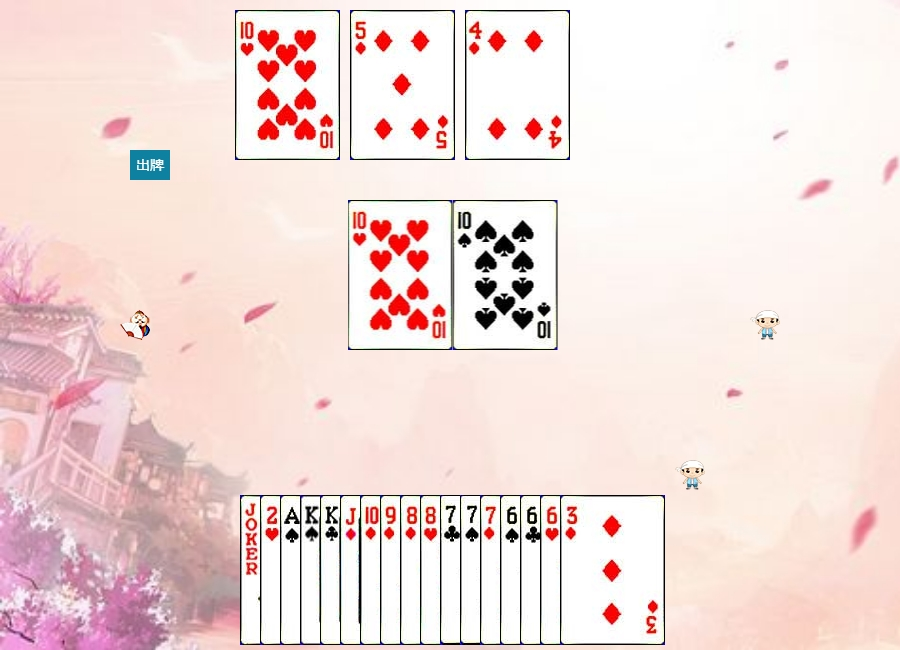10~1: (360, 495, 465, 645)
10~3: (235, 10, 340, 160), (348, 200, 453, 350)
10~4: (453, 200, 558, 350)
11~1: (340, 495, 445, 645)
13~2: (320, 495, 425, 645)
13~4: (300, 495, 405, 645)
14~4: (280, 495, 385, 645)
15~3: (260, 495, 365, 645)
18~4: (240, 495, 345, 645)
3~1: (560, 495, 665, 645)
4~1: (465, 10, 570, 160)
5~1: (350, 10, 455, 160)
6~2: (520, 495, 625, 645)
6~3: (540, 495, 645, 645)
6~4: (500, 495, 605, 645)
7~1: (480, 495, 585, 645)
7~2: (440, 495, 545, 645)
7~4: (460, 495, 565, 645)
8~1: (400, 495, 505, 645)
8~3: (420, 495, 525, 645)
9~1: (380, 495, 485, 645)
